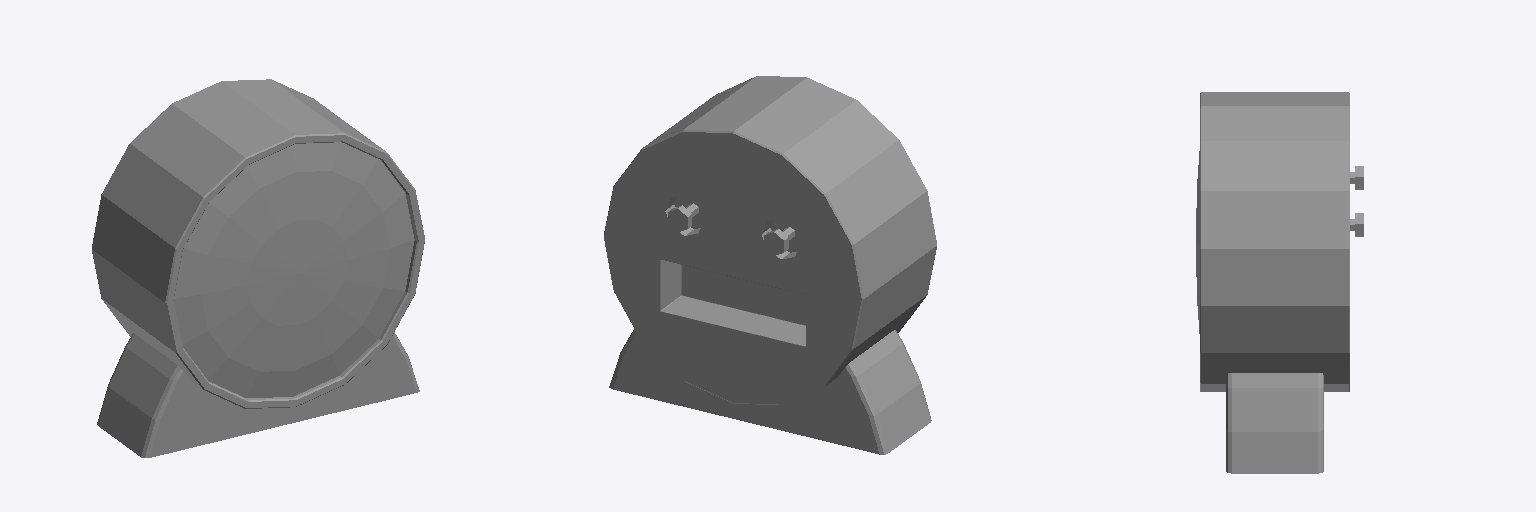
File: clock1.obj
The picture shows the model from 3 angles: view 1: azimuth 30°, elevation 25°; view 2: azimuth 150°, elevation 25°; view 3: azimuth 270°, elevation 25°; orthographic projection.
Parts seen in each view (by area): view 1: Circle; view 2: Circle; view 3: Circle.
Boxes of the visible parts, <box> form: Circle: <box>92,79,424,457</box>; Circle: <box>604,76,936,454</box>; Circle: <box>1196,92,1363,473</box>.
Size of the model in its own units: 0.107 by 0.11 by 0.0562.